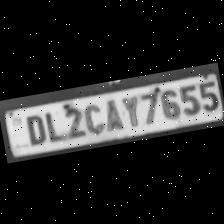2: (58, 102, 86, 138)
5: (194, 76, 220, 112), (175, 80, 200, 116)
6: (156, 84, 180, 120)
7: (135, 88, 160, 124)
A: (98, 95, 124, 131)
C: (79, 99, 106, 134)
D: (19, 110, 46, 146)
L: (41, 106, 64, 142)
Y: (116, 92, 141, 128)
